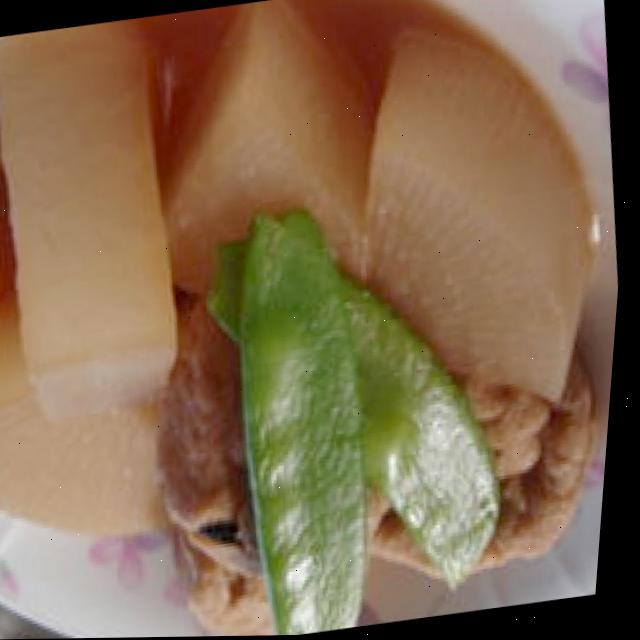熟制海鲜: (0, 80, 635, 640)
